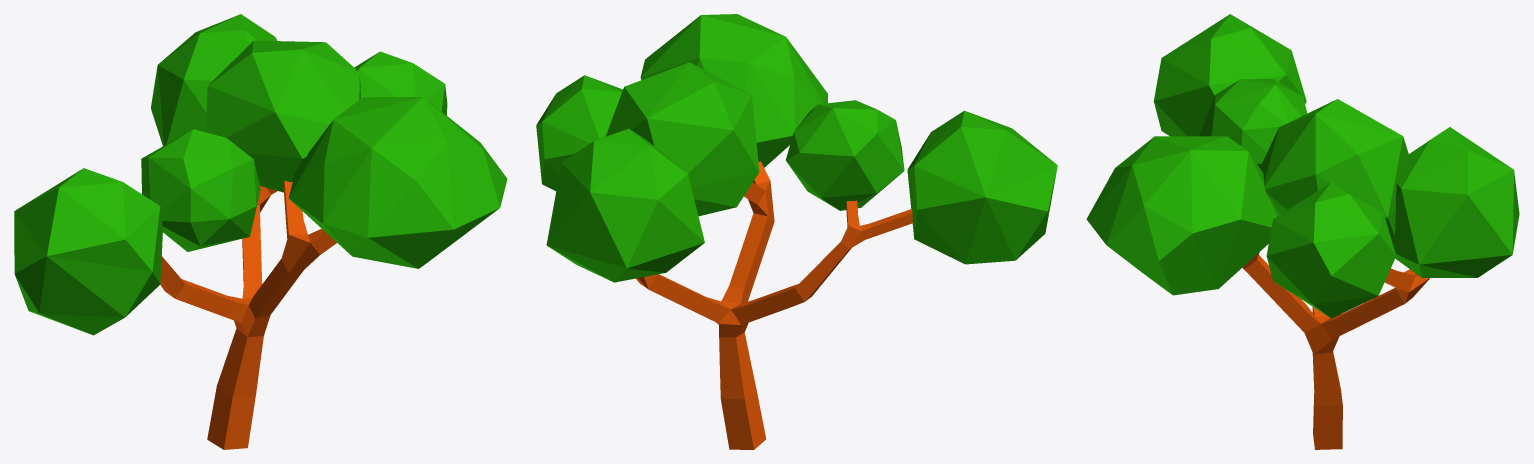
The model's file is DobreDrzewov1m1.fbx.
3 views of the same model, side by side, from view 1: azimuth 30°, elevation 25°; view 2: azimuth 150°, elevation 25°; view 3: azimuth 270°, elevation 25° (orthographic). The views are drawn at different scales.
Parts seen in each view (by area): view 1: Kula ico.005, Kula ico, Kula ico.002, Kostka, Kula ico.001, Kula ico.003, Kula ico.004; view 2: Kula ico.003, Kula ico, Kula ico.002, Kostka, Kula ico.005, Kula ico.001, Kula ico.004; view 3: Kula ico.005, Kula ico.003, Kula ico.004, Kula ico.002, Kula ico, Kostka, Kula ico.001.
Boxes of the visible parts, <box> form: Kula ico.005: <box>288,97,507,268</box>; Kula ico: <box>14,168,162,335</box>; Kula ico.002: <box>205,40,360,192</box>; Kostka: <box>160,180,336,449</box>; Kula ico.001: <box>141,129,260,251</box>; Kula ico.003: <box>151,14,277,145</box>; Kula ico.004: <box>354,51,447,115</box>; Kula ico.003: <box>546,128,704,282</box>; Kula ico: <box>907,110,1057,264</box>; Kula ico.002: <box>605,62,759,216</box>; Kostka: <box>636,161,912,449</box>; Kula ico.005: <box>640,14,827,167</box>; Kula ico.001: <box>785,100,904,210</box>; Kula ico.004: <box>536,75,622,190</box>; Kula ico.005: <box>1086,136,1280,295</box>; Kula ico.003: <box>1392,127,1519,277</box>; Kula ico.004: <box>1266,182,1396,318</box>; Kula ico.002: <box>1260,99,1408,240</box>; Kula ico: <box>1153,14,1306,136</box>; Kostka: <box>1242,252,1429,449</box>; Kula ico.001: <box>1199,79,1307,167</box>.
Size of the model in its own units: 1512 by 1143 by 1242.
